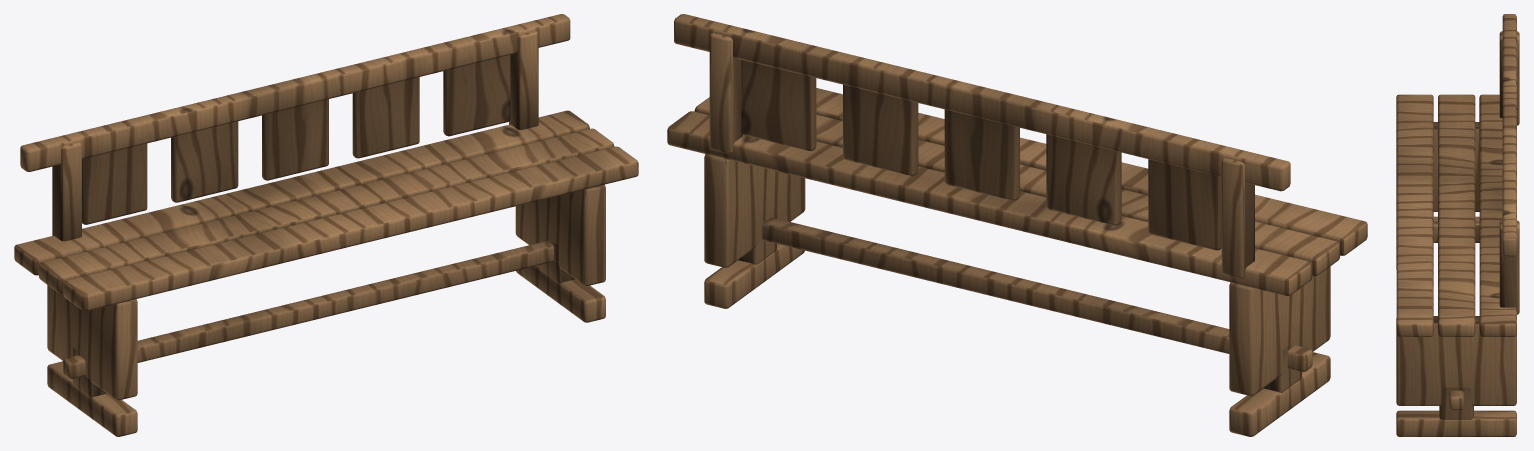
Rendered from p_bench.glb.
3 views of the same model, side by side, from view 1: azimuth 30°, elevation 25°; view 2: azimuth 150°, elevation 25°; view 3: azimuth 270°, elevation 25° (orthographic). The views are drawn at different scales.
Parts seen in each view (by area): view 1: bench; view 2: bench; view 3: bench.
Part boxes in pixels (<box>): bench: <box>14,14,638,436</box>; bench: <box>667,14,1367,436</box>; bench: <box>1396,14,1519,436</box>.
Bounding box in the file's own units: 1.9 × 0.812 × 0.4304.
1 material, 1 textured.
